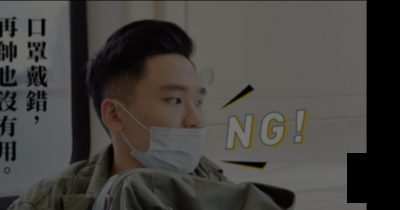mask_weared_incorrect: (129, 81, 207, 173)
